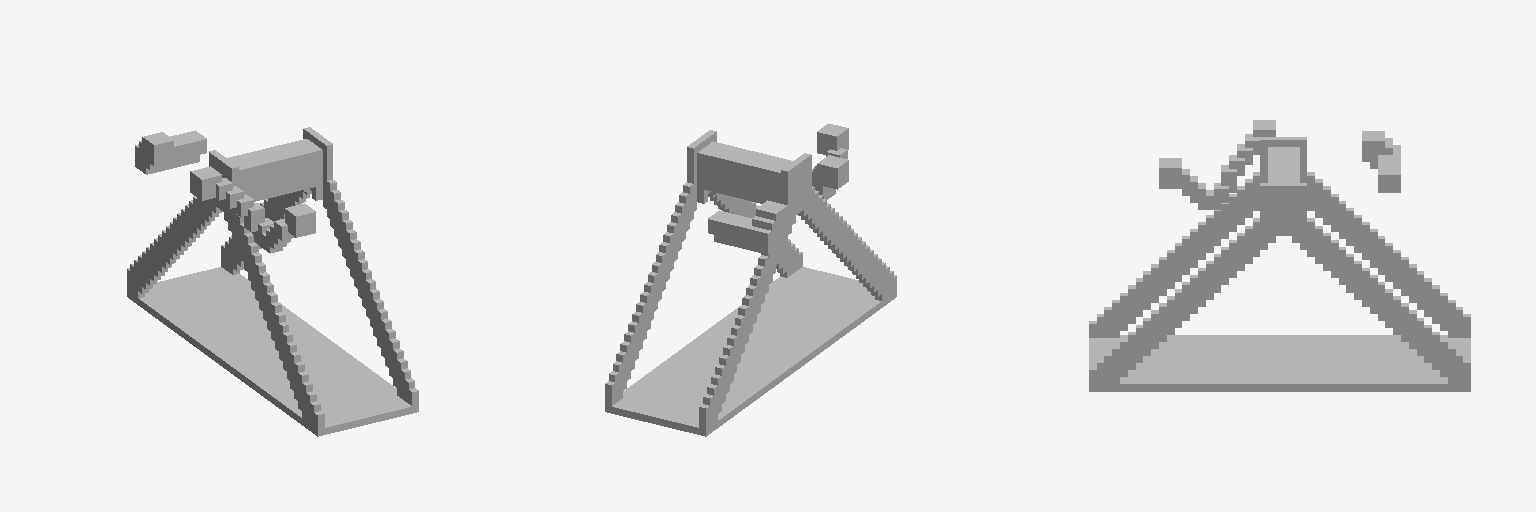
The model's file is chem2.obj.
3 renders of one model, left to right at view 1: azimuth 30°, elevation 25°; view 2: azimuth 150°, elevation 25°; view 3: azimuth 270°, elevation 25°, orthographic.
Visible parts, largest first — view 1: object 1; view 2: object 1; view 3: object 1.
Boxes of the visible parts, box(x1,y1,x2,y2) form: object 1: box(127, 127, 418, 436); object 1: box(605, 123, 896, 436); object 1: box(1089, 120, 1470, 391).
Size of the model in its own units: 2 by 2.9 by 4.9.